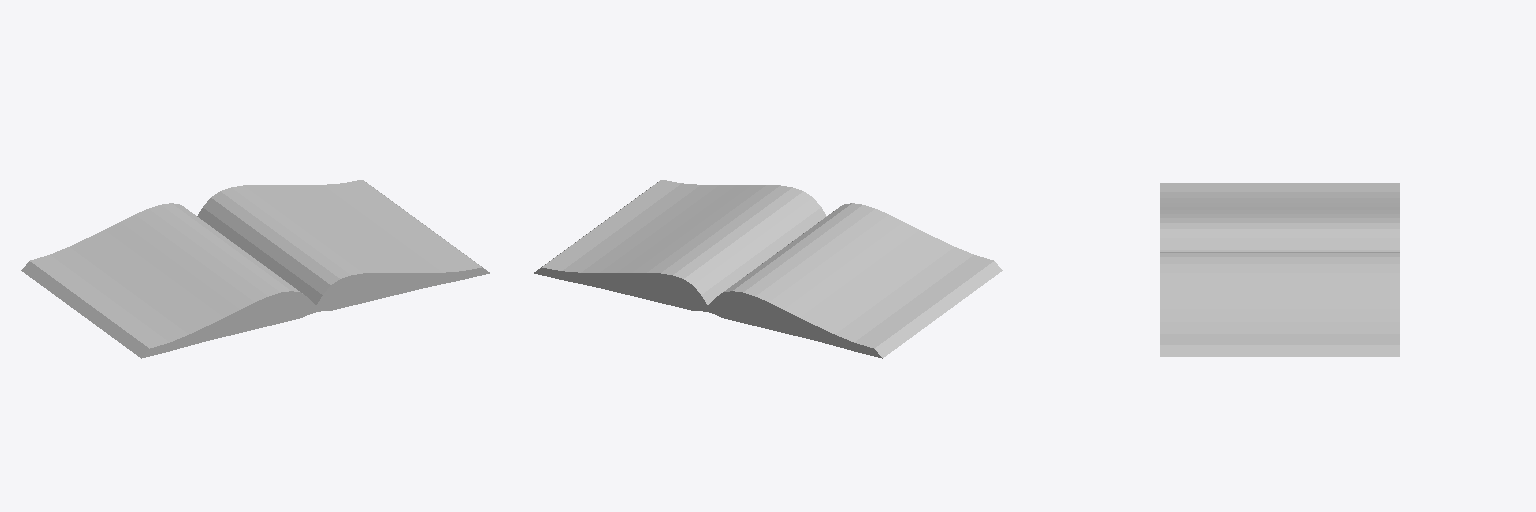
Rendered from book.obj.
3 renders of one model, left to right at view 1: azimuth 30°, elevation 25°; view 2: azimuth 150°, elevation 25°; view 3: azimuth 270°, elevation 25°, orthographic.
Visible parts, largest first — view 1: Cube_Cube.001; view 2: Cube_Cube.001; view 3: Cube_Cube.001.
Part boxes in pixels (x1,y1,x2,y2): Cube_Cube.001: (21,180,489,358); Cube_Cube.001: (534,180,1002,358); Cube_Cube.001: (1160,183,1399,356).
Size of the model in its own units: 4.2 by 0.3672 by 2.5.